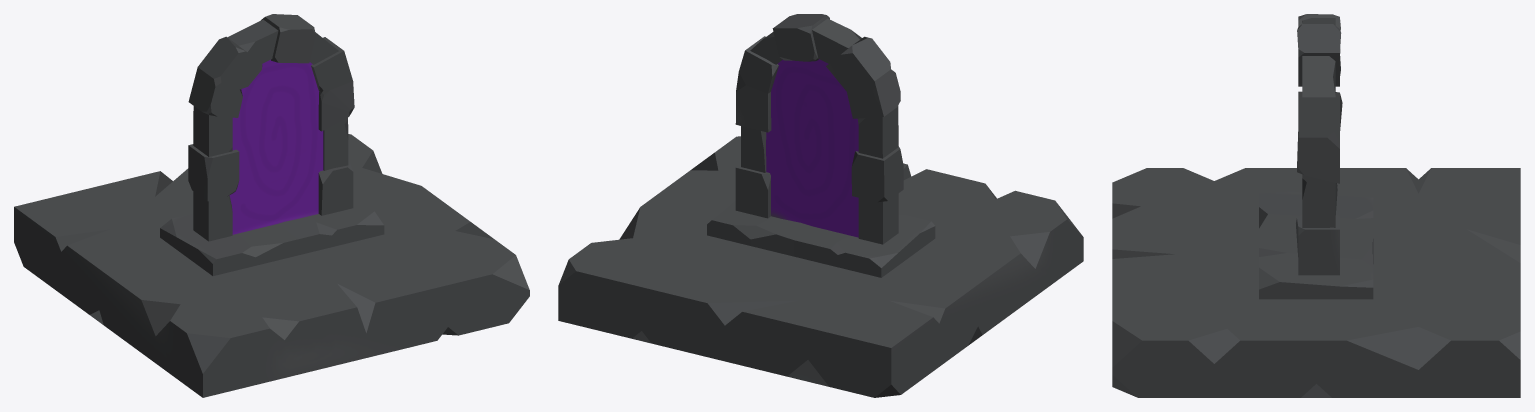
The model's file is Portal 1.fbx.
3 views of the same model, side by side, from view 1: azimuth 30°, elevation 25°; view 2: azimuth 150°, elevation 25°; view 3: azimuth 270°, elevation 25° (orthographic). The views are drawn at different scales.
Parts seen in each view (by area): view 1: Plane; view 2: Plane; view 3: Plane.
Boxes of the visible parts, x1,y1,x2,y2 form: Plane: [14, 14, 529, 397]; Plane: [558, 14, 1083, 397]; Plane: [1112, 14, 1520, 397].
Bounding box in the file's own units: 715 × 581 × 715.
